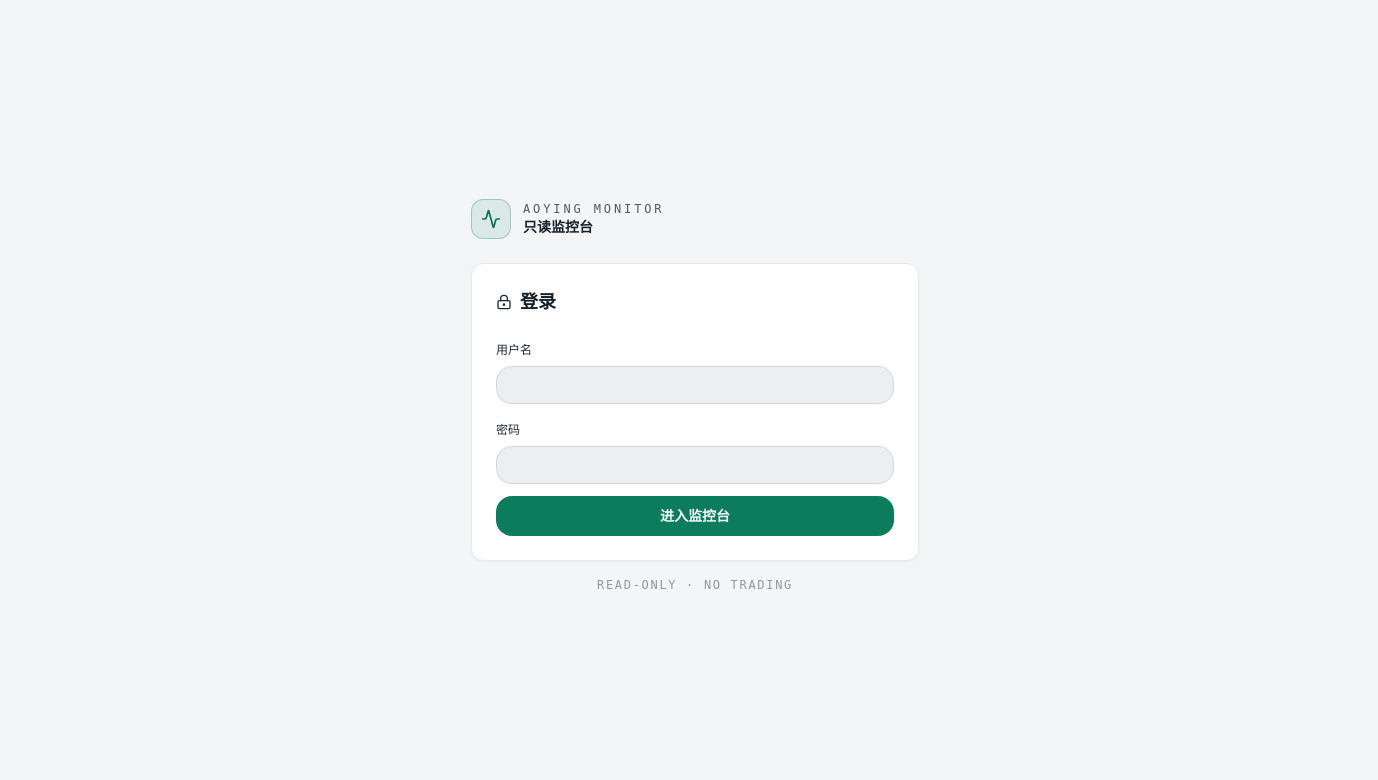
Test case: Session gate › logs in and lands on the requested page
Type "admin" into the field labelled "用户名" at (695, 385), box [496, 366, 894, 404]
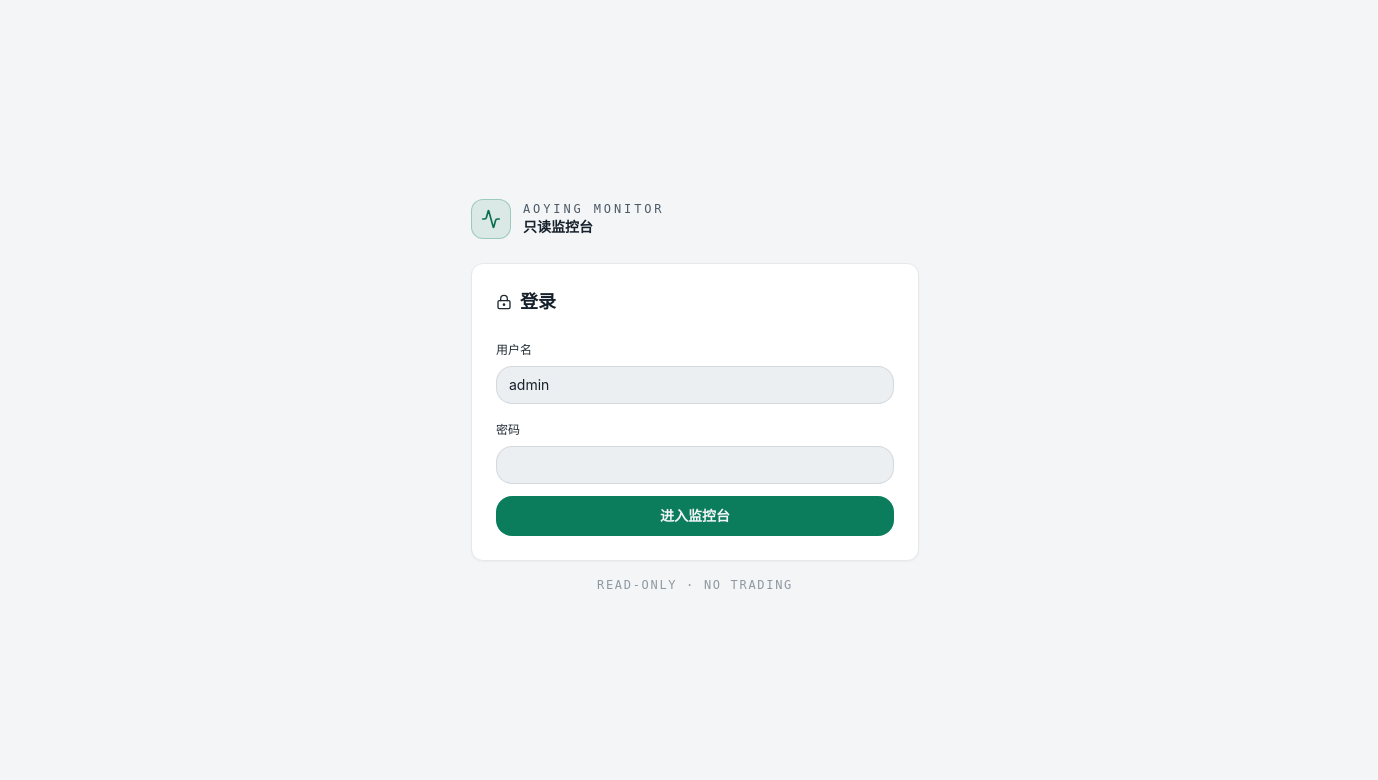
Type "good" into the password field labelled "密码" at (695, 465), box [496, 446, 894, 484]
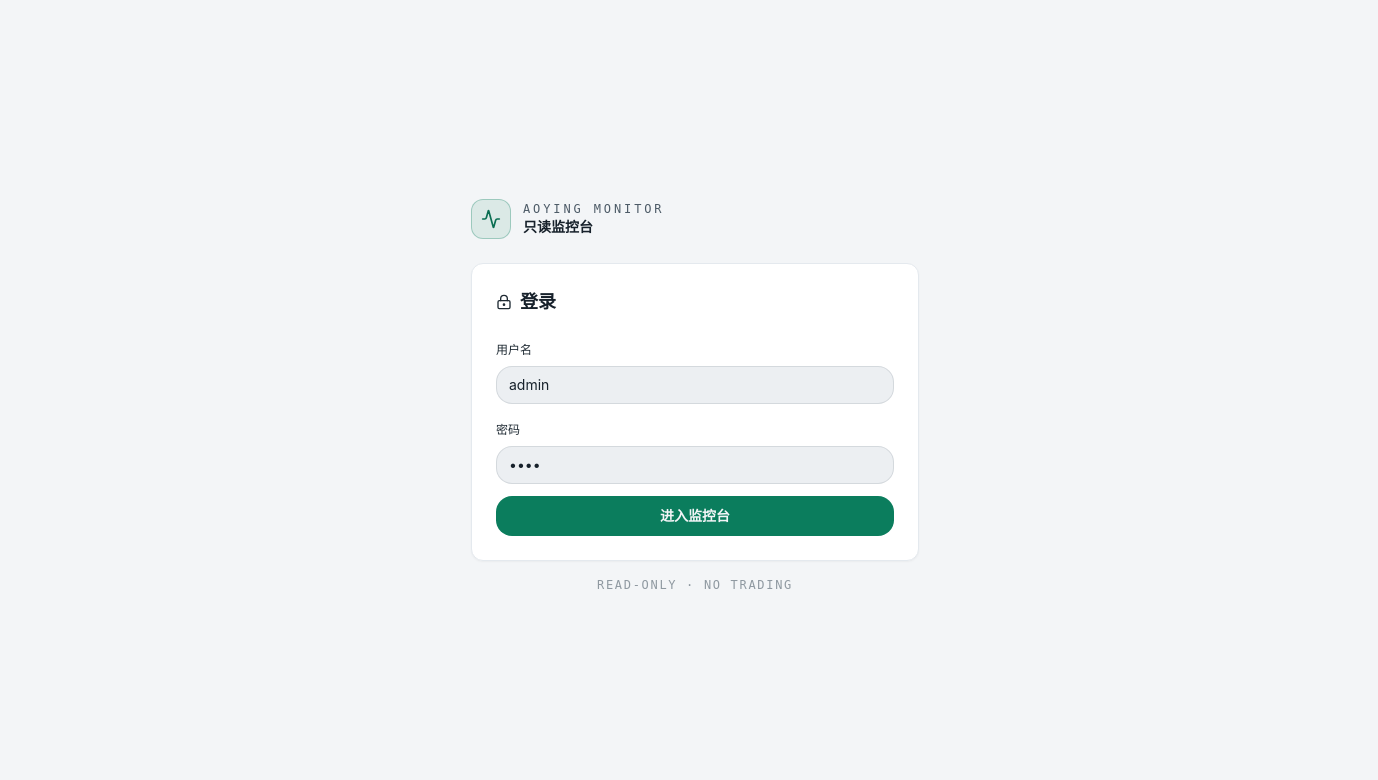
Click the button "进入监控台" at (695, 516), box [496, 496, 894, 536]
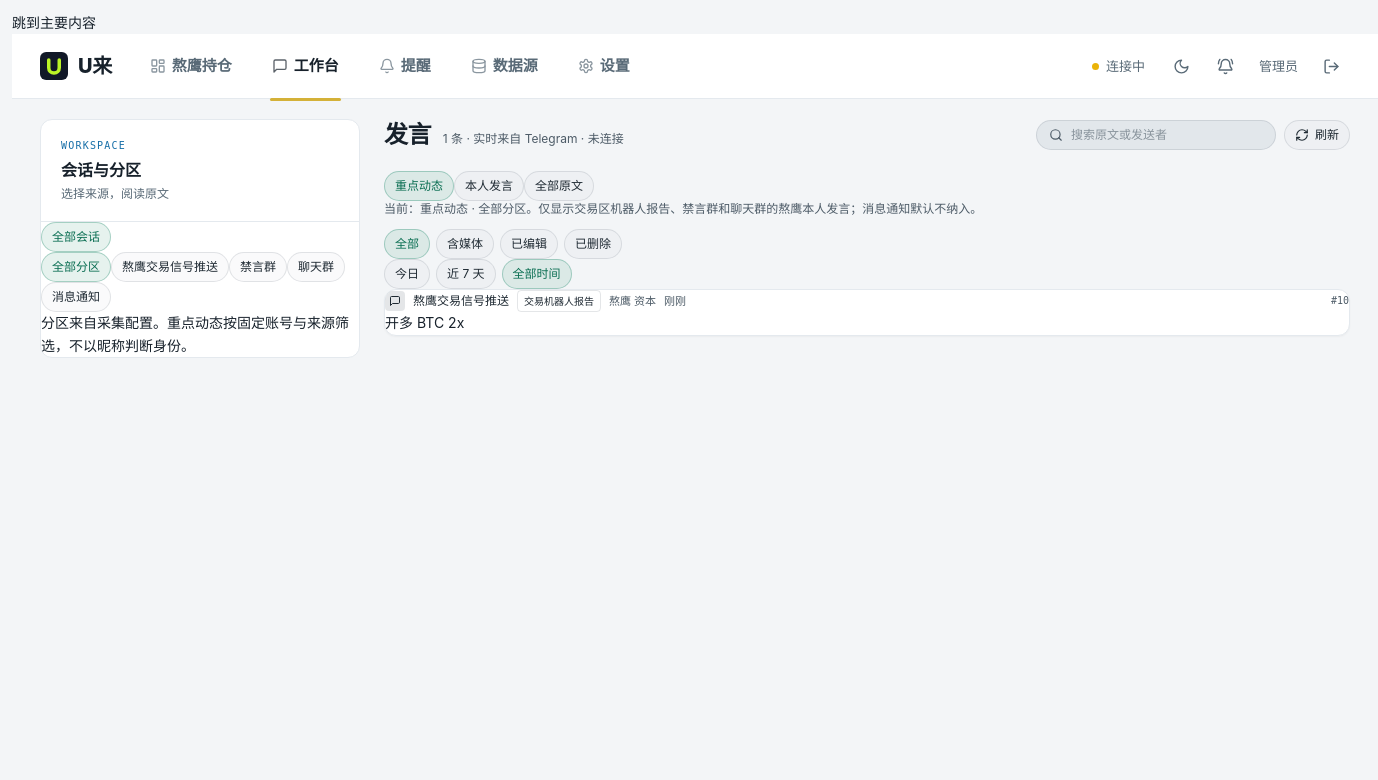
Expected: the heading "发言" is shown, [384, 119, 431, 151]
